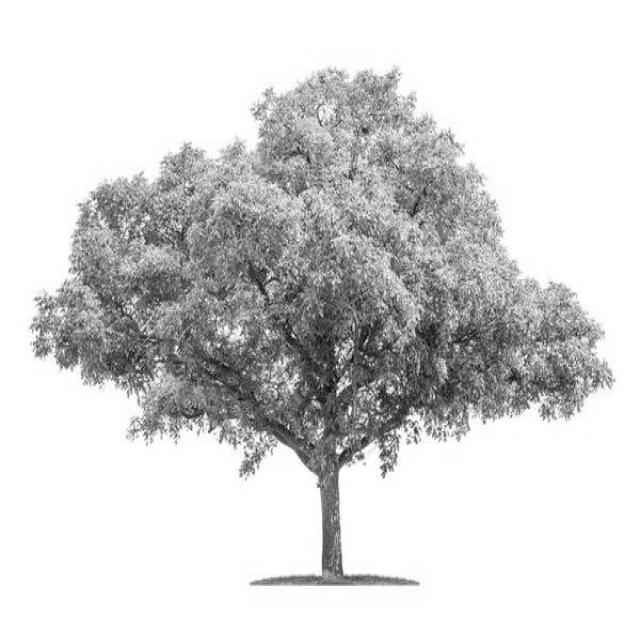Tree: (32, 69, 613, 576)
